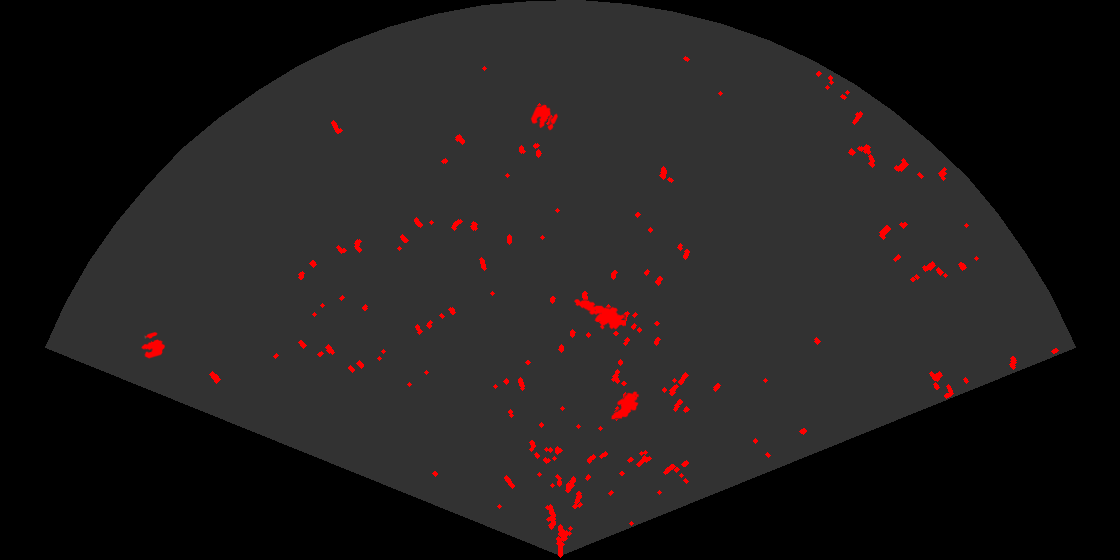AUV: (609, 390, 641, 421)
ball: (529, 103, 559, 132), (140, 330, 167, 360)
frogman: (572, 298, 626, 331)
